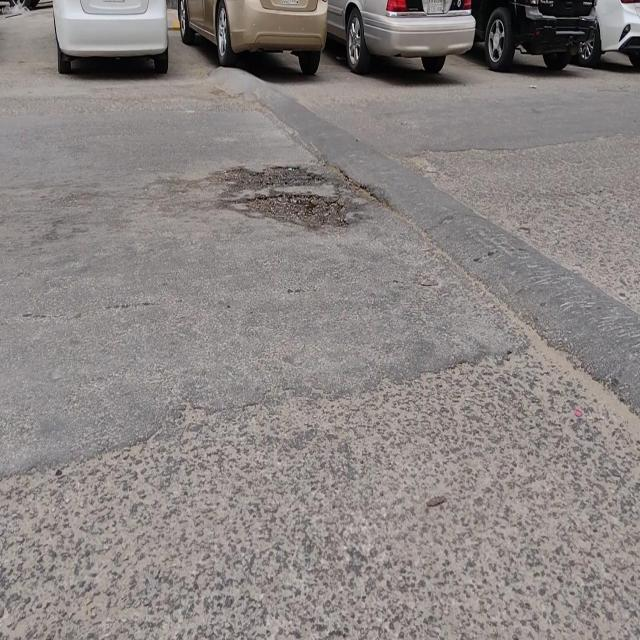Pothole: (218, 163, 344, 233)
